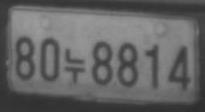0: (39, 37, 60, 83)
1: (143, 43, 165, 89)
4: (168, 45, 192, 91)
8: (115, 42, 139, 87), (91, 40, 113, 85), (14, 36, 36, 80)
누: (63, 46, 86, 83)
